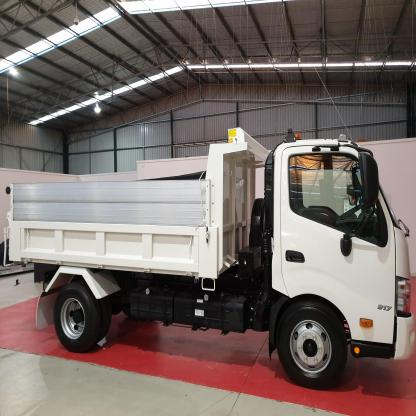dump_truck: (8, 119, 411, 394)
